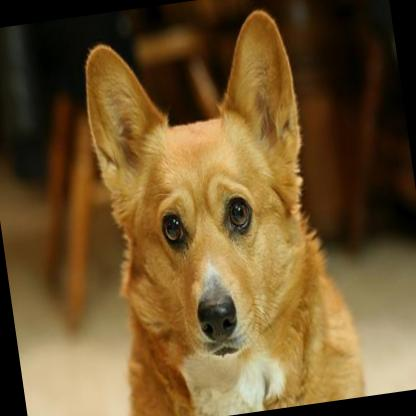Pembroke: (69, 0, 371, 416)
